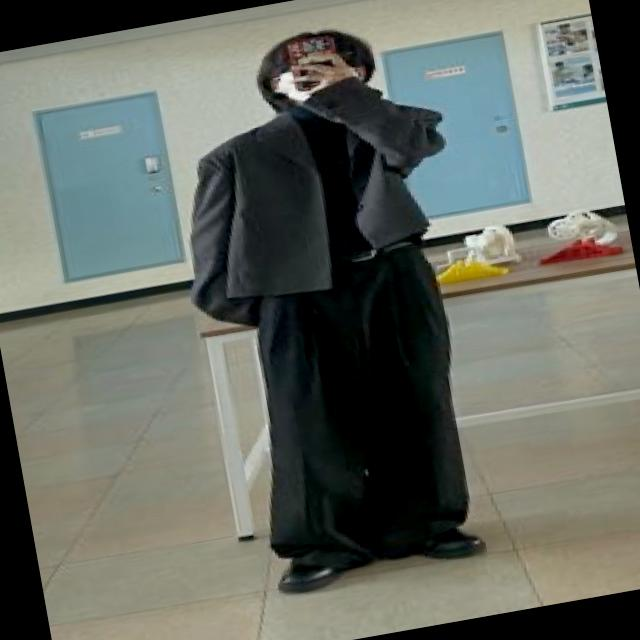blazer: (154, 59, 476, 332)
slacks: (225, 233, 484, 564)
